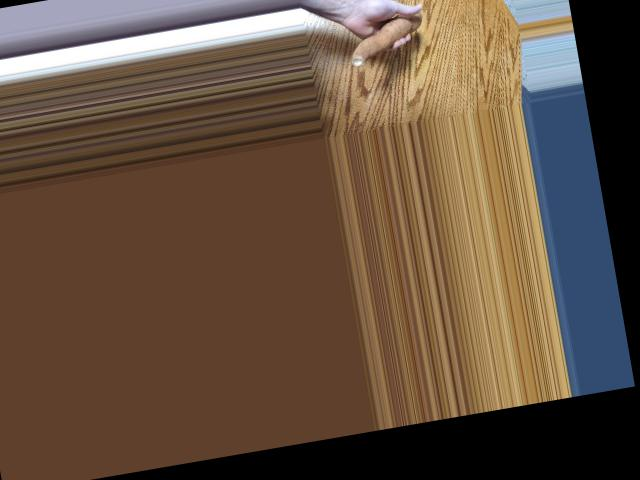sweet_potato: (341, 13, 424, 67)
